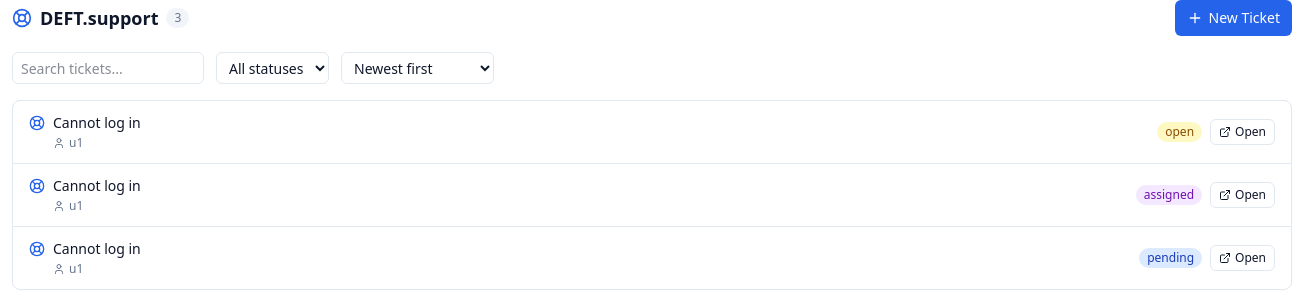
Test case: SupportManagementView › filters ticket rows by assigned status
The width and height of the screenshot is (1292, 307).
Expected: the element with test id "ticket-row-t-assigned" is shown, [13,164,1291,227]
Select "Assigned" in the dropdown with test id "tickets-status-filter" at (272, 68), box [216,52,329,84]
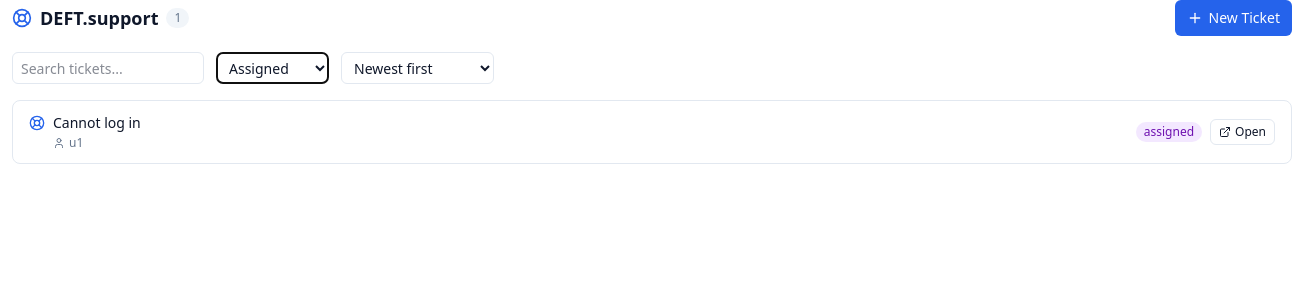
Expected: the element with test id "ticket-row-t-assigned" is shown, [13,101,1291,163]
Now the element with test id "ticket-row-t-open" is gone
Now the element with test id "ticket-row-t-pending" is gone
